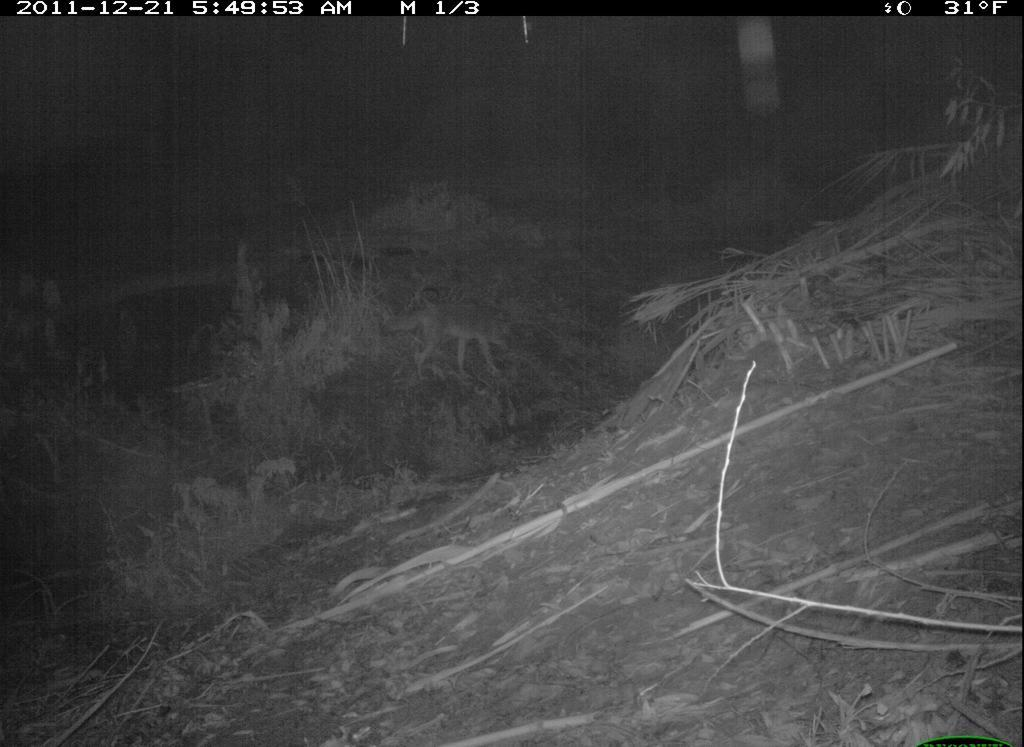coyote: (380, 287, 522, 383)
